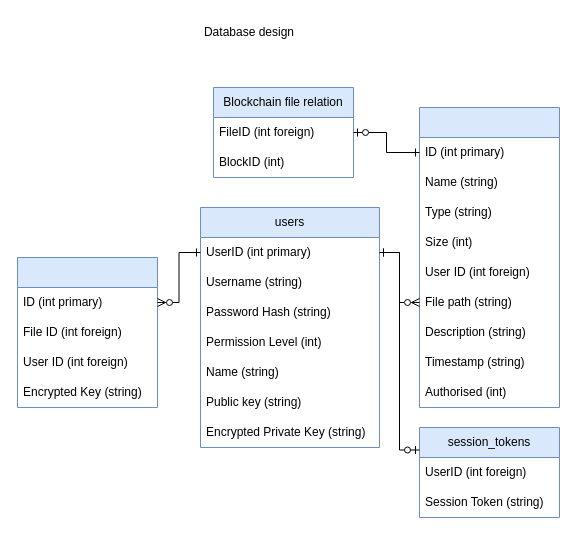
The diagram is 577 pixels wide and 535 high, and some of its shapes have lost their labels. Each missing label, with the box of its shape:
Files: (418, 106, 560, 408)
Key File Relation: (16, 256, 158, 408)
